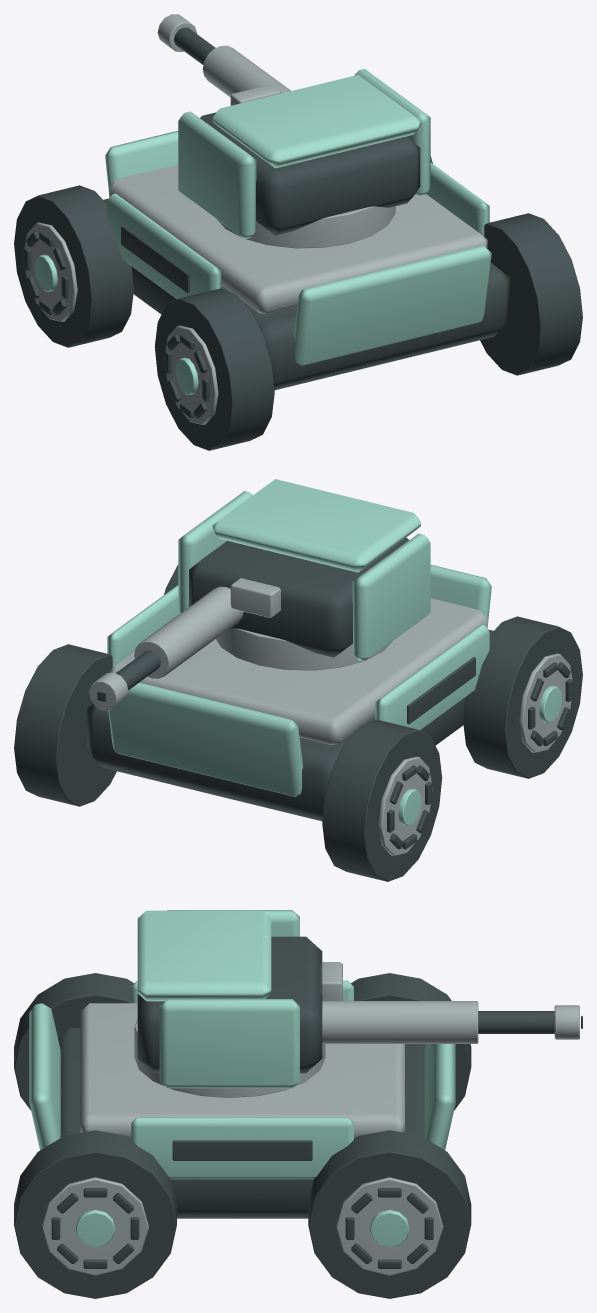
File: robot-neutral.glb
3 views of the same model, one above another, from view 1: azimuth 30°, elevation 25°; view 2: azimuth 150°, elevation 25°; view 3: azimuth 270°, elevation 25° (orthographic). The views are drawn at different scales.
Visible parts, largest first — view 1: infantry-chassis, infantry-armor, infantry-mechanics; view 2: infantry-chassis, infantry-armor, infantry-mechanics; view 3: infantry-chassis, infantry-armor, infantry-mechanics.
Boxes of the visible parts, x1,y1,x2,y2 form: infantry-chassis: [14, 27, 582, 450]; infantry-armor: [34, 69, 491, 394]; infantry-mechanics: [23, 14, 487, 424]; infantry-chassis: [14, 537, 582, 881]; infantry-armor: [107, 479, 562, 825]; infantry-mechanics: [89, 578, 573, 855]; infantry-chassis: [14, 936, 582, 1298]; infantry-armor: [29, 910, 455, 1247]; infantry-mechanics: [42, 962, 579, 1275].
Size of the model in its own units: 0.7 by 0.4575 by 0.8935.
